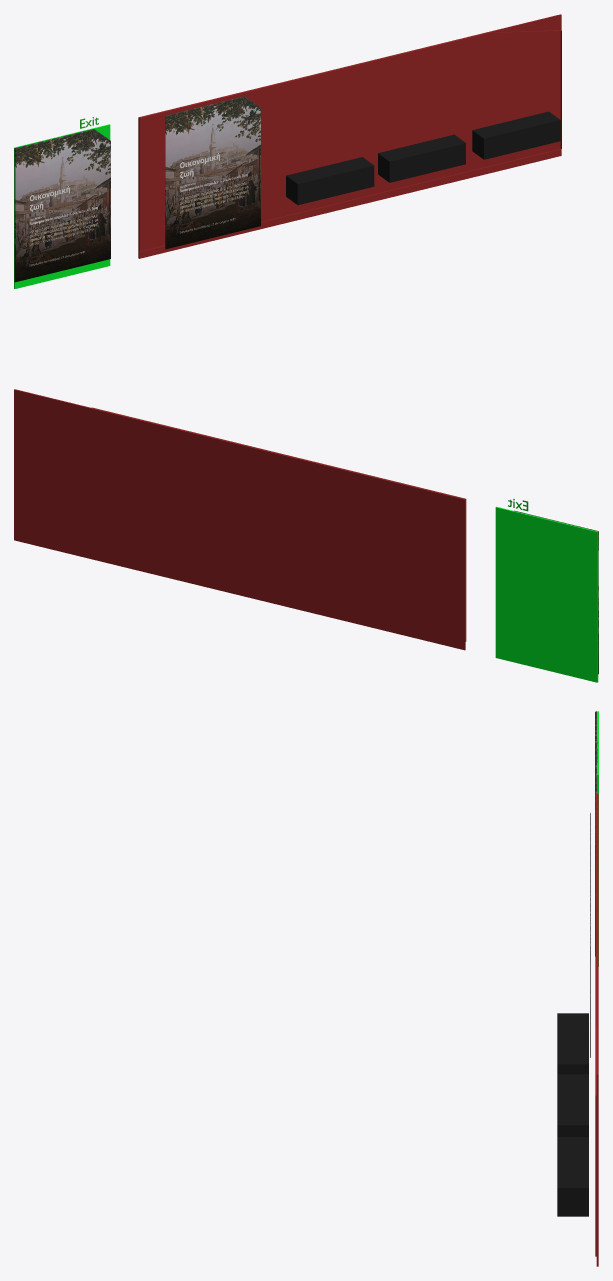
The model's file is RoomExhb.glb.
3 views of the same model, one above another, from view 1: azimuth 30°, elevation 25°; view 2: azimuth 150°, elevation 25°; view 3: azimuth 270°, elevation 25° (orthographic). The views are drawn at different scales.
Parts seen in each view (by area): view 1: TAB_01, exit_tab, TAB_03.001, Cube, Cube.002, Cube.001; view 2: TAB_01, exit_tab; view 3: Cube.002, Cube.001, Cube, TAB_01.
Boxes of the visible parts, x1,y1,x2,y2 form: TAB_01: [138, 14, 561, 258]; exit_tab: [14, 124, 110, 288]; TAB_03.001: [165, 96, 260, 249]; Cube: [286, 157, 374, 205]; Cube.002: [472, 111, 560, 159]; Cube.001: [378, 134, 465, 182]; TAB_01: [14, 389, 466, 650]; exit_tab: [495, 506, 598, 682]; Cube.002: [557, 1137, 588, 1216]; Cube.001: [557, 1074, 588, 1136]; Cube: [557, 1013, 588, 1074]; TAB_01: [595, 794, 598, 1266].
Size of what is drawn, in the model's own units: 12.57 by 3.48 by 8.56.
6 materials, 1 textured.
